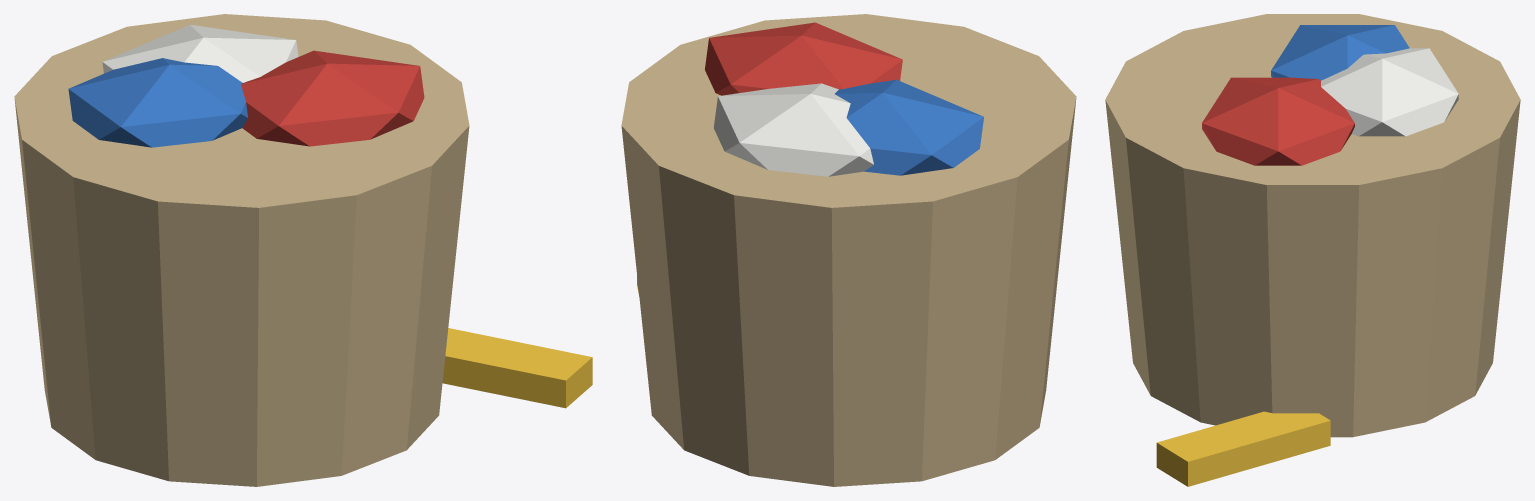
File: laundry_basket.glb
The picture shows the model from 3 angles, left to right: view 1: azimuth 30°, elevation 25°; view 2: azimuth 150°, elevation 25°; view 3: azimuth 270°, elevation 25°; orthographic projection. The views are drawn at different scales.
Parts seen in each view (by area): view 1: laundry_basket_mesh; view 2: laundry_basket_mesh; view 3: laundry_basket_mesh.
Boxes of the visible parts, box(x1,y1,x2,y2) form: laundry_basket_mesh: box(14, 14, 592, 486); laundry_basket_mesh: box(621, 14, 1076, 486); laundry_basket_mesh: box(1105, 14, 1520, 486).
Bounding box in the file's own units: 0.7161 × 0.485 × 0.6.
